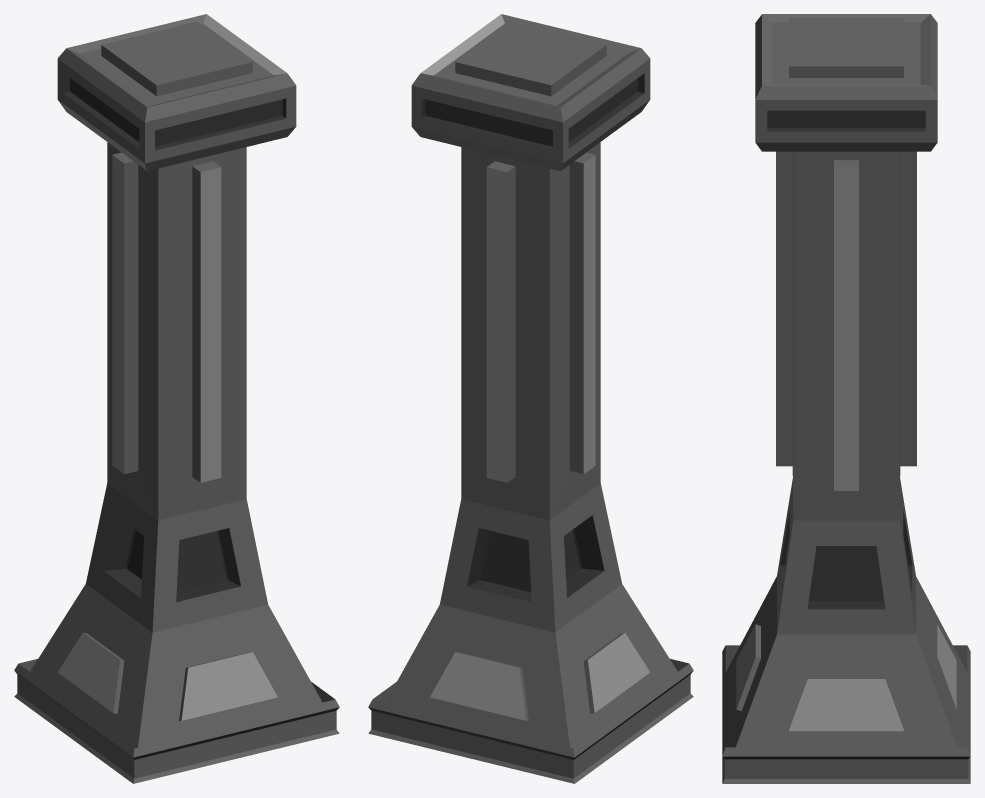
Rendered from Pillar1colored.fbx.
3 renders of one model, left to right at view 1: azimuth 30°, elevation 25°; view 2: azimuth 150°, elevation 25°; view 3: azimuth 270°, elevation 25°, orthographic. The views are drawn at different scales.
Parts seen in each view (by area): view 1: Cube; view 2: Cube; view 3: Cube.
Boxes of the visible parts, box(x1,y1,x2,y2) form: Cube: box(14, 14, 339, 783); Cube: box(368, 14, 693, 783); Cube: box(722, 14, 970, 783).
Size of the model in its own units: 429 by 1313 by 429.
